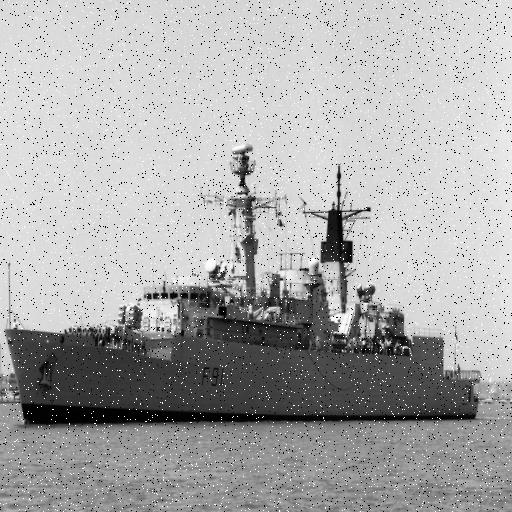Fragata: (4, 143, 490, 427)
